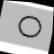no answer: (13, 11, 45, 42)
